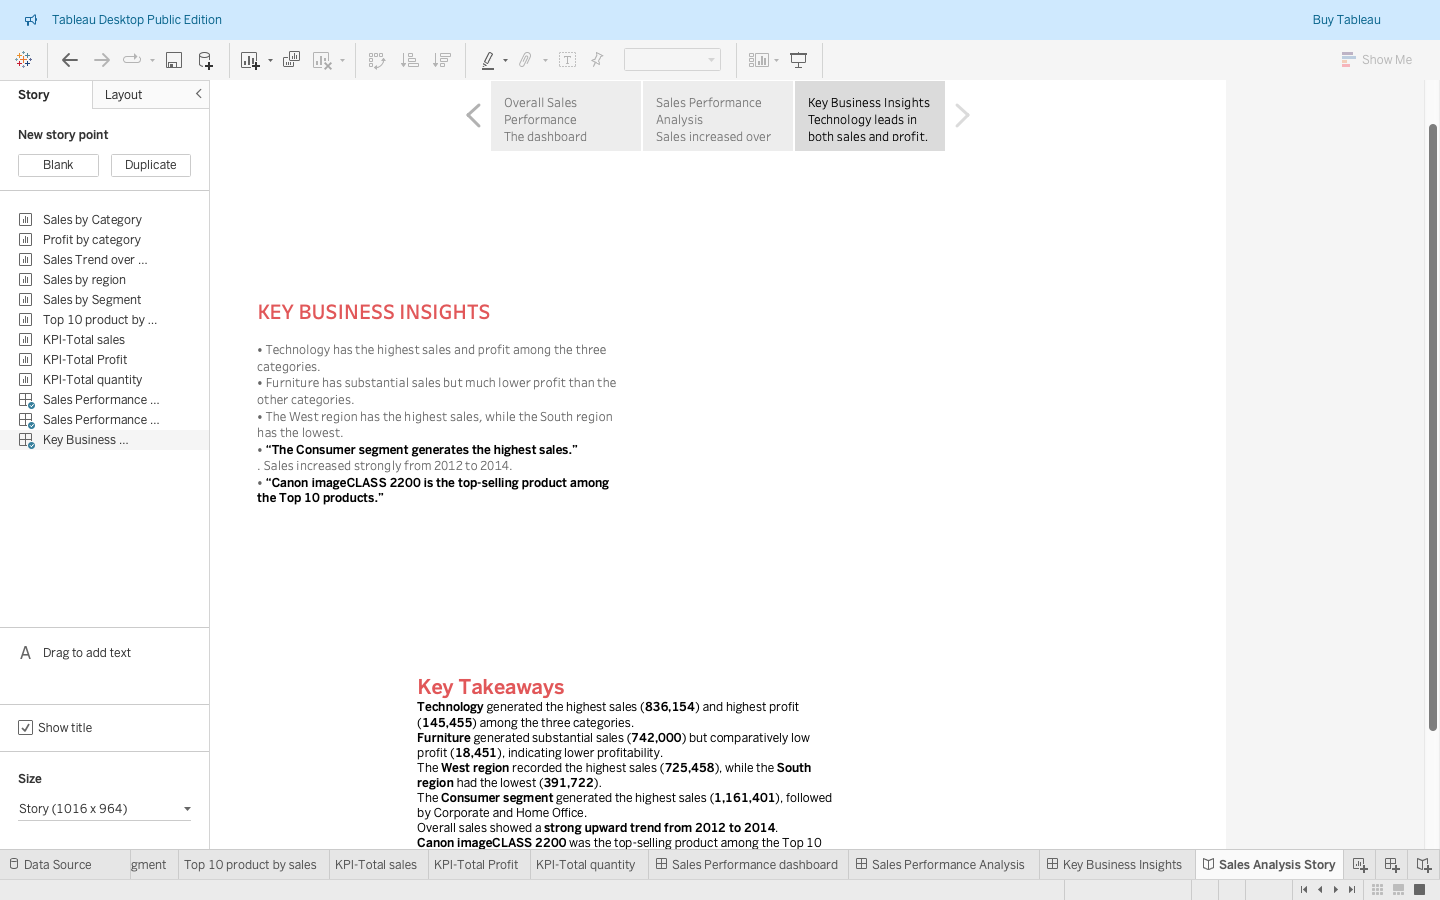

The dashboard page shown, as its layout file describes it:
{"tool":"tableau","page":{"name":"Key Business Insights","canvas":[650,860],"ordinal":0},"visuals":[{"type":"text","box":[37,31.6,365,430]},{"type":"text","box":[197,424,423,430]}]}

Visuals, with their boxes on the page's 650x860 design canvas (x1, y1, x2, y2). These are canvas units, not pixel positions in the 1440x900 screenshot, which may show the page scaled, cropped or inside an application window:
text: Rect(37, 32, 402, 462)
text: Rect(197, 424, 620, 854)
